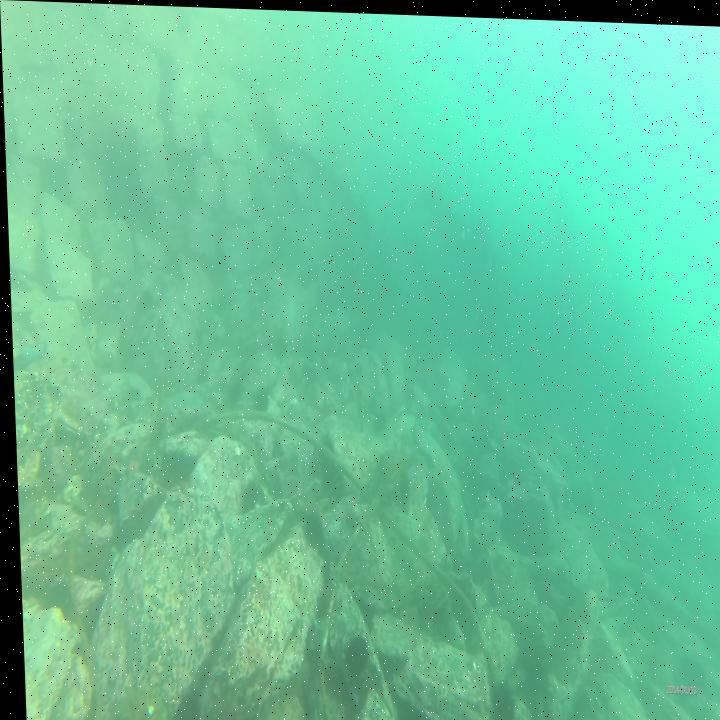echinus: (482, 671, 512, 720), (337, 626, 366, 676), (237, 474, 259, 517), (297, 503, 319, 546), (269, 330, 284, 360), (250, 383, 266, 411)
starfish: (120, 455, 136, 478)
